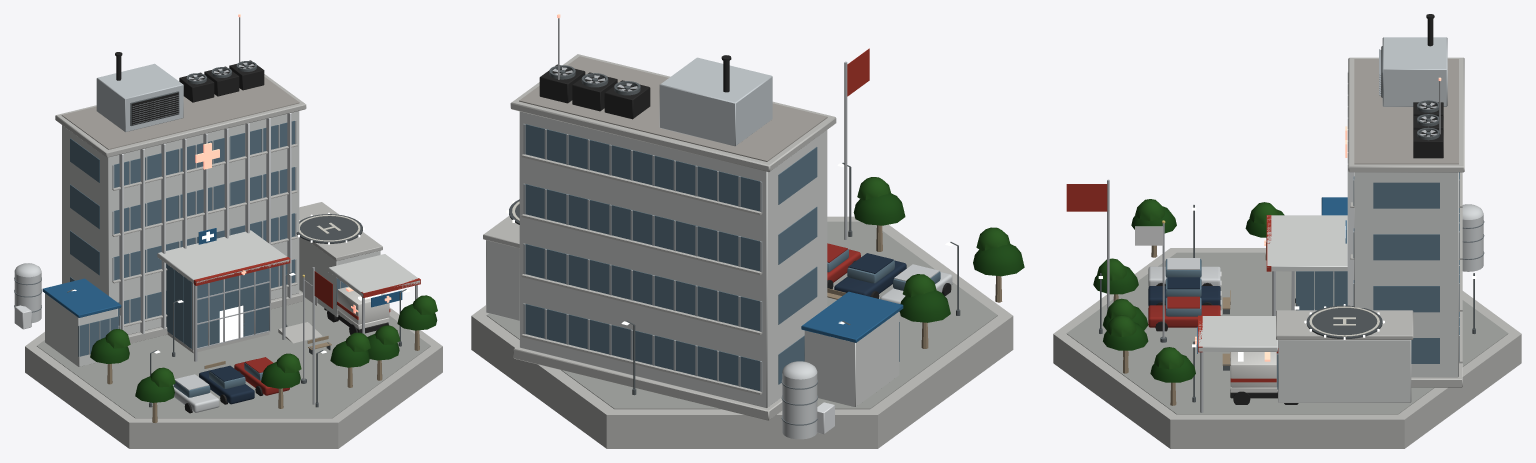
File: hospital_us.glb
3 views of the same model, side by side, from view 1: azimuth 30°, elevation 25°; view 2: azimuth 150°, elevation 25°; view 3: azimuth 270°, elevation 25° (orthographic). The views are drawn at different scales.
Visible parts, largest first — view 1: cladding, wall_concrete, glass, pavers, paint, leaf, gravel, dark, metal, steel_dark, wood, glow_cyan (+1 smaller); view 2: cladding, wall_concrete, glass, pavers, paint, gravel, leaf, dark, steel_dark, metal, wood; view 3: cladding, wall_concrete, pavers, paint, glass, gravel, leaf, dark, metal, steel_dark, wood, banner.
Part boxes in pixels (x1=…): cladding: x1=14, y1=63, x2=420, y2=366; wall_concrete: x1=25, y1=74, x2=442, y2=448; glass: x1=70, y1=121, x2=347, y2=397; pavers: x1=37, y1=290, x2=430, y2=418; paint: x1=14, y1=214, x2=420, y2=412; leaf: x1=90, y1=295, x2=437, y2=402; gravel: x1=61, y1=77, x2=299, y2=149; dark: x1=115, y1=52, x2=388, y2=413; metal: x1=132, y1=17, x2=417, y2=404; steel_dark: x1=67, y1=61, x2=406, y2=407; wood: x1=107, y1=330, x2=419, y2=422; glow_cyan: x1=202, y1=231, x2=380, y2=342; cladding: x1=486, y1=57, x2=899, y2=434; wall_concrete: x1=471, y1=54, x2=1013, y2=448; glass: x1=525, y1=124, x2=940, y2=391; pavers: x1=486, y1=221, x2=997, y2=409; paint: x1=509, y1=48, x2=952, y2=439; gravel: x1=519, y1=56, x2=827, y2=161; leaf: x1=853, y1=177, x2=1024, y2=322; dark: x1=539, y1=55, x2=951, y2=298; steel_dark: x1=549, y1=65, x2=960, y2=395; metal: x1=552, y1=18, x2=847, y2=239; wood: x1=827, y1=225, x2=1002, y2=348; cladding: x1=1198, y1=37, x2=1459, y2=402; wall_concrete: x1=1053, y1=57, x2=1521, y2=448; pavers: x1=1066, y1=252, x2=1508, y2=414; paint: x1=1066, y1=184, x2=1484, y2=392; glass: x1=1165, y1=172, x2=1459, y2=389; gravel: x1=1354, y1=59, x2=1458, y2=164; leaf: x1=1093, y1=199, x2=1284, y2=382; dark: x1=1155, y1=14, x2=1443, y2=404; metal: x1=1107, y1=49, x2=1440, y2=412; steel_dark: x1=1099, y1=46, x2=1475, y2=402; wood: x1=1113, y1=238, x2=1266, y2=405; banner: x1=1135, y1=226, x2=1163, y2=245.
Size of the model in its own units: 21.3 by 18.85 by 24.6.
